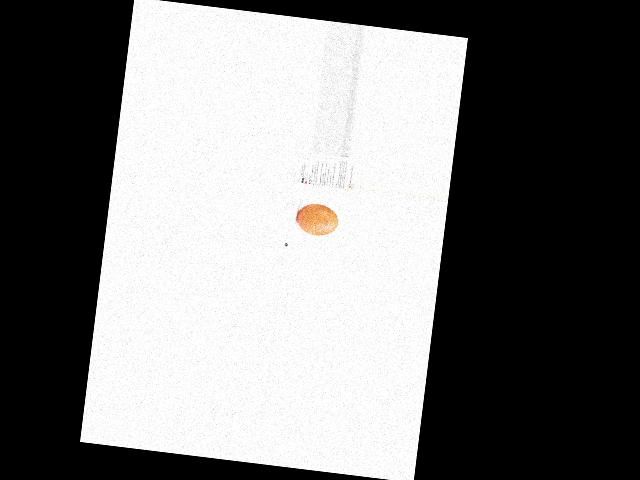egg: (295, 201, 339, 237)
